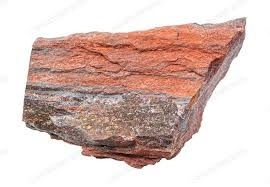obstacle: (23, 18, 245, 167)
